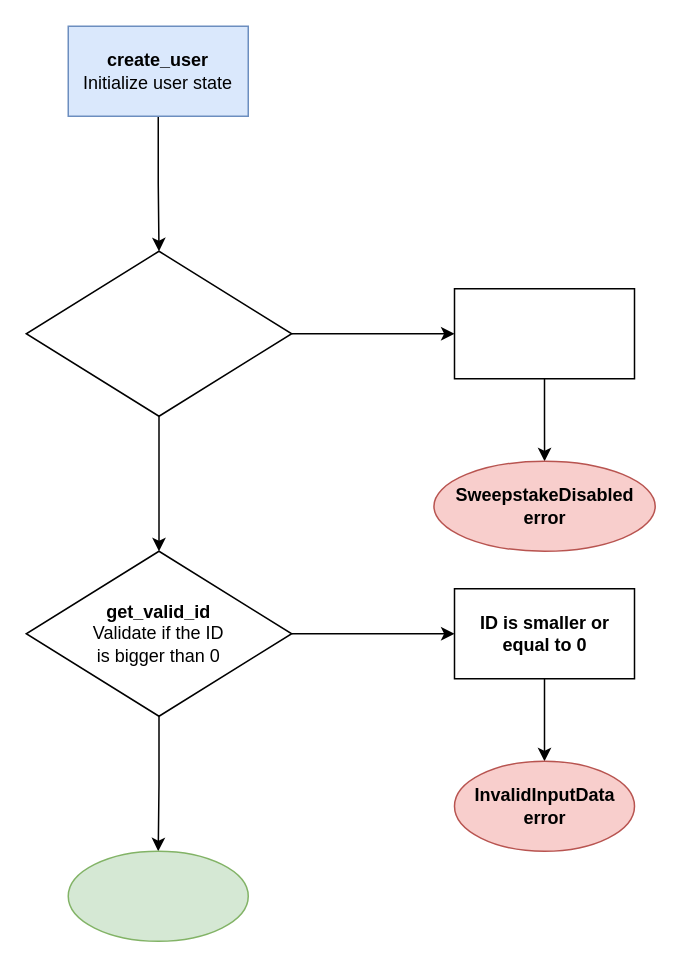
Some shapes in this 683 by 968 pixel diagram are drawn without their labels. Here are the shapes that lost their labels. From the top down, the box of each, then its label:
(25, 250, 292, 416): validate_deadline Has the championship begun?
(453, 287, 634, 379): Championship has begun
(67, 850, 248, 941): User state is created
